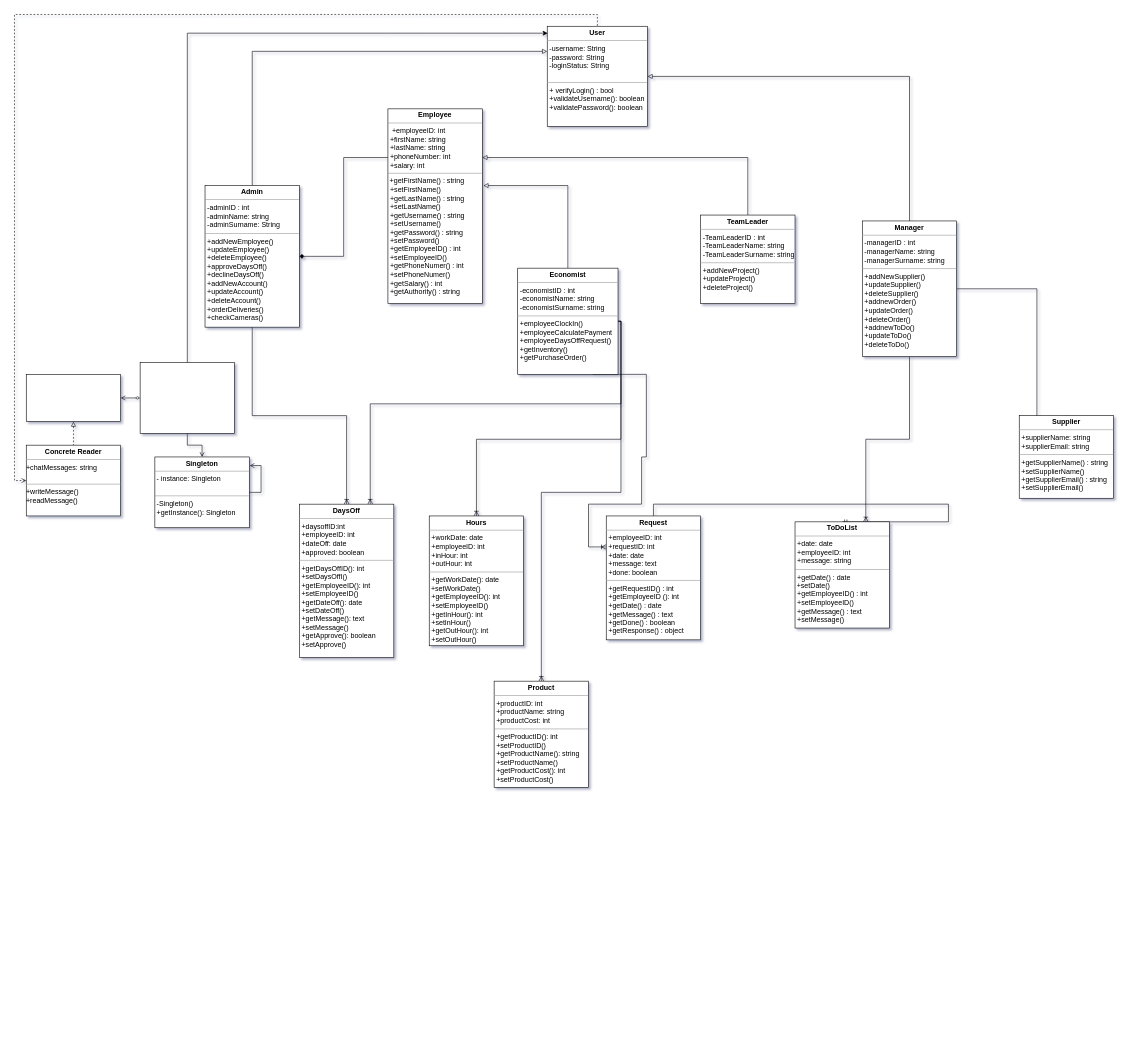
The diagram is 1127 pixels wide and 1056 high, and some of its shapes have lost their labels. Each missing label, with the centre of its shape:
<<Interface>> Chat Reader +update(message): the point at 73,398
Chat System +chatMessages: string +getMessage() +notifyUsers(): the point at 187,397
